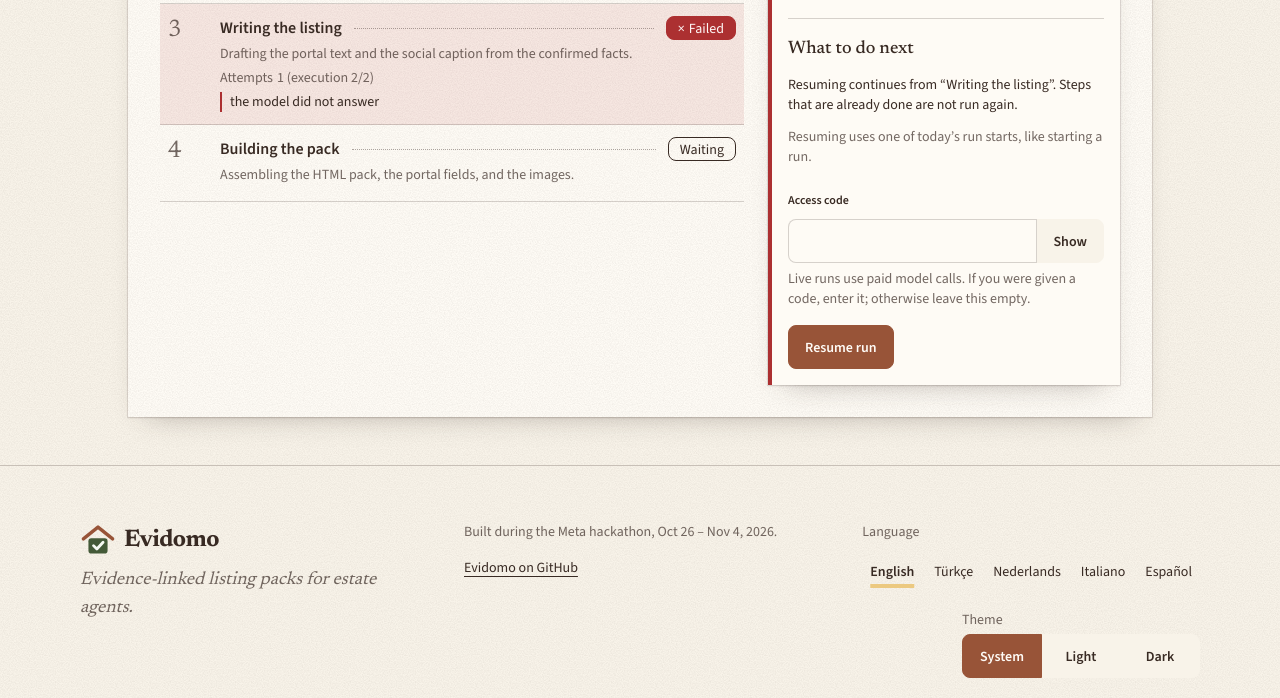
Test: failed run: what stopped, what is kept, what to do › 409 daily_budget_reached without Retry-After
(page scrolled)
Click the button "Resume run": [841, 347] box [788,325,894,369]
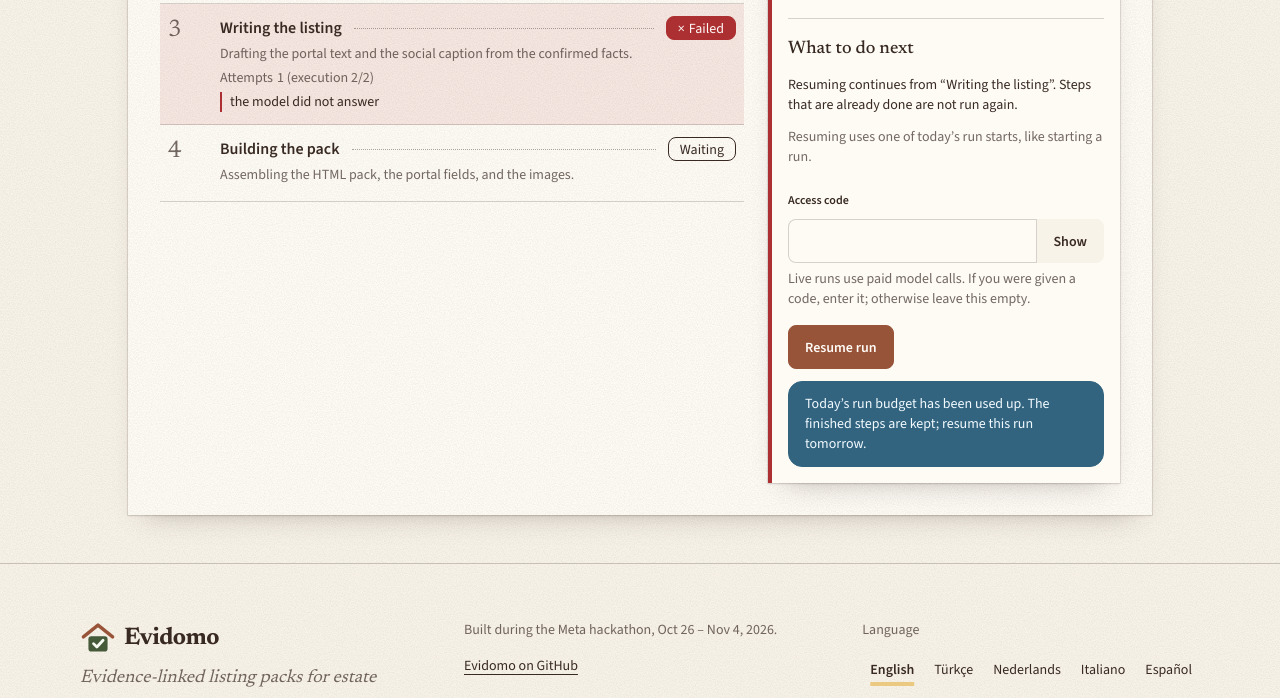
Result: the text "resume this run tomorrow" is shown at [805,394,1050,453]
